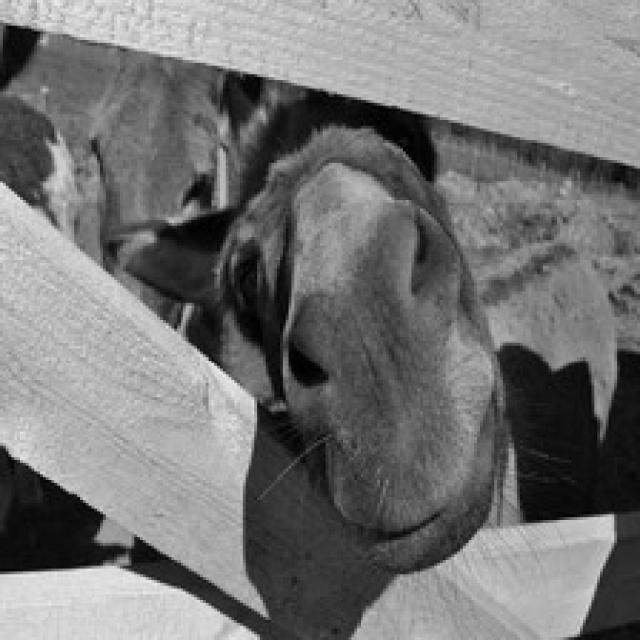Donkey: (114, 123, 610, 574), (80, 43, 437, 340)
